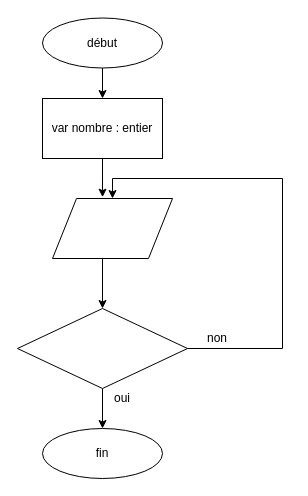
Some shapes in this 308 by 496 pixel diagram are drawn without their labels. Here are the shapes that lost their labels. From the top down, the centre of each, then its label:
At [112,228]: "lecture nombre".
At [102,348]: "nombre >= 1 et nombre <= 3 ?".
